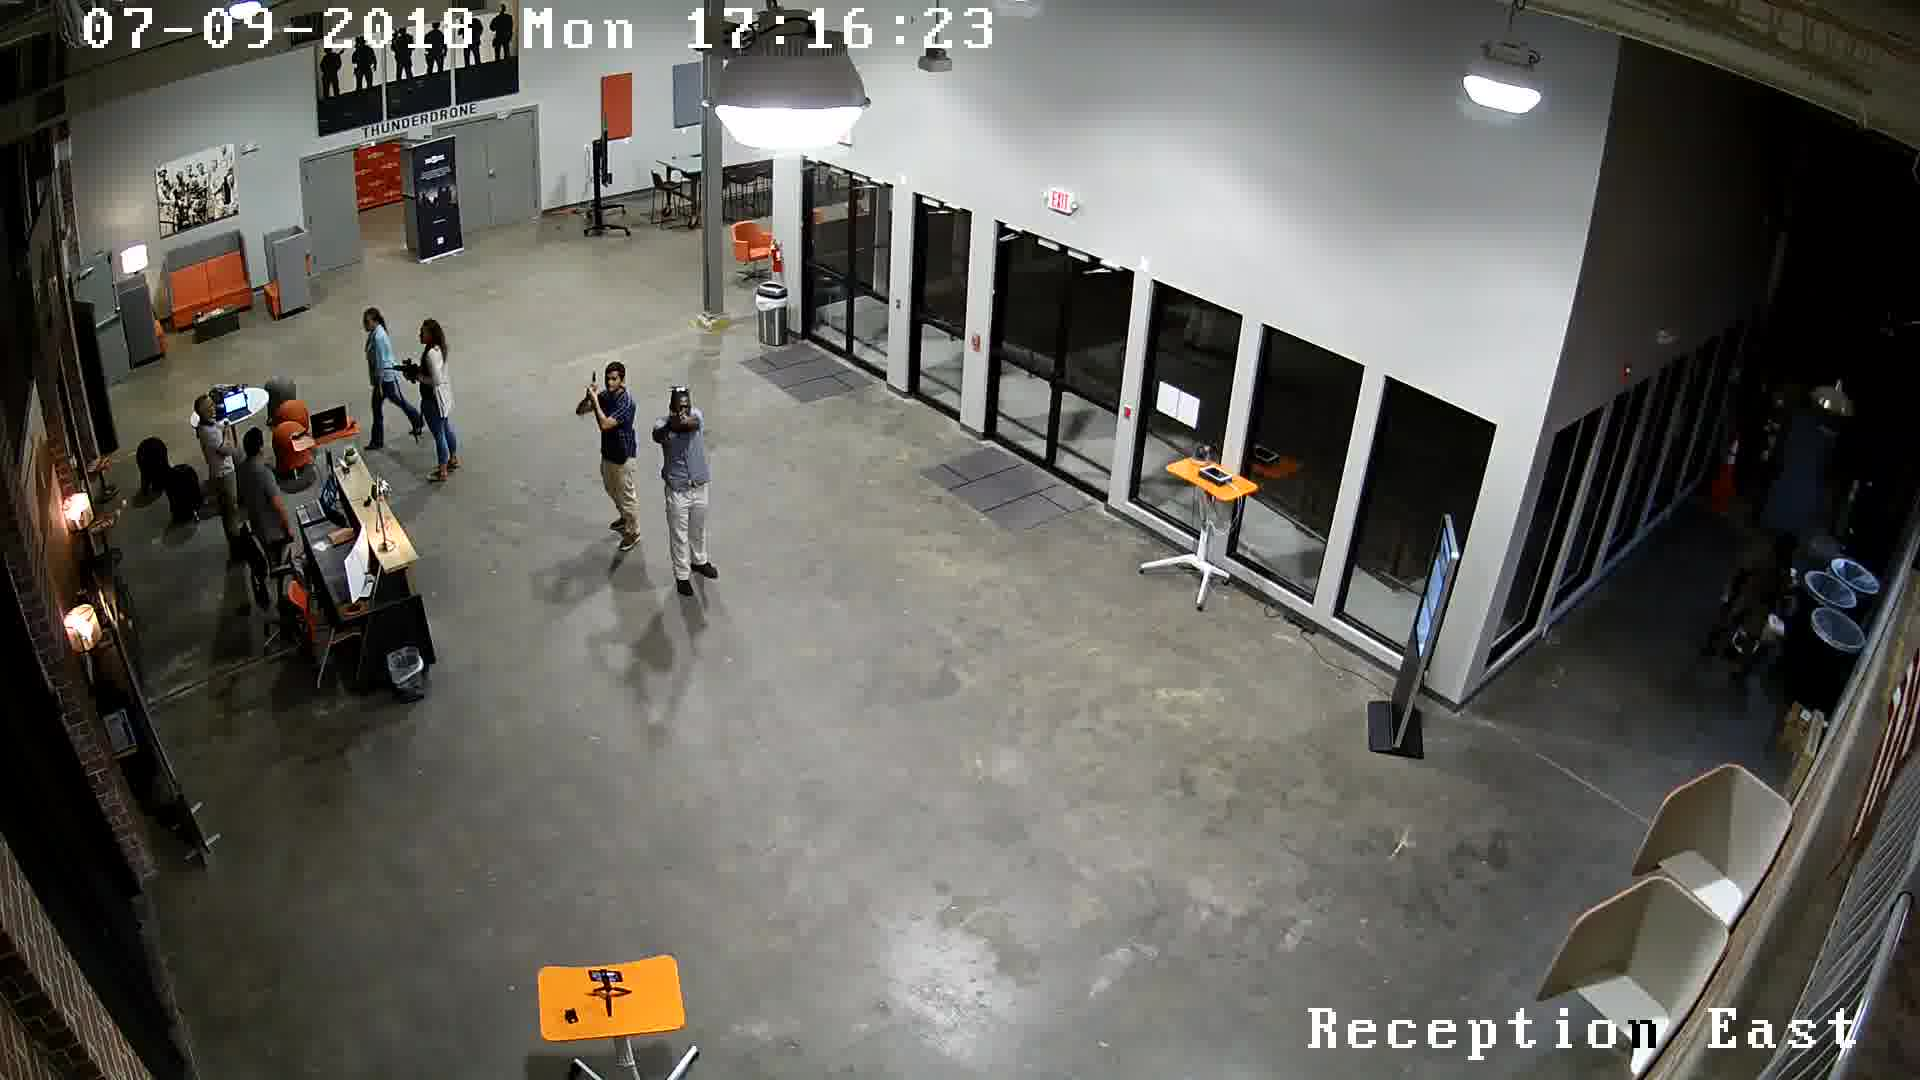pistol: (666, 405, 699, 442), (578, 368, 603, 405)
